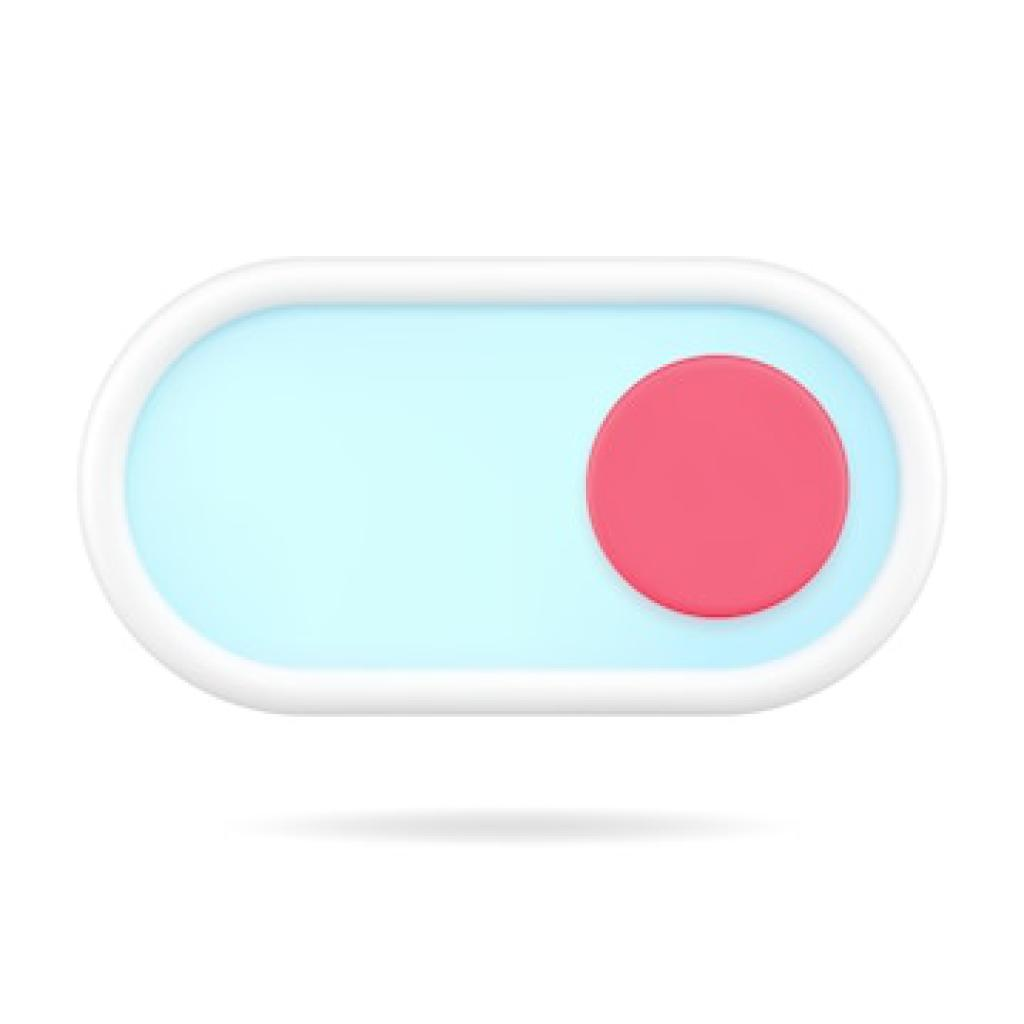switch: (79, 254, 947, 718)
